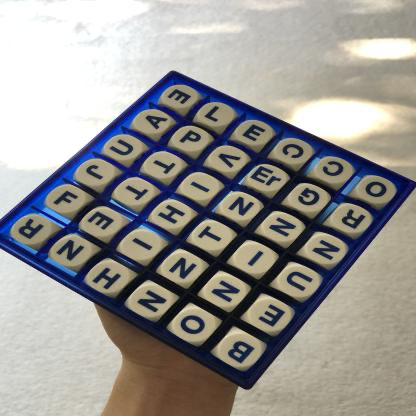a: (135, 111, 172, 135)
b: (220, 334, 263, 369)
c: (276, 140, 314, 166), (316, 159, 354, 184)
e: (248, 300, 292, 332), (84, 210, 124, 238), (236, 121, 274, 147), (164, 87, 198, 109)
er: (249, 166, 288, 192)
f: (48, 187, 87, 214)
g: (290, 186, 329, 213)
h: (89, 263, 130, 294), (153, 202, 193, 231)
i: (235, 245, 277, 274), (122, 232, 163, 261), (182, 175, 222, 201)
j: (78, 161, 114, 187)
l: (200, 104, 236, 128)
n: (131, 286, 173, 319), (205, 277, 247, 309), (306, 236, 347, 266), (52, 239, 94, 268), (163, 254, 205, 283), (264, 215, 304, 243), (222, 195, 261, 222)
o: (175, 310, 217, 343), (358, 178, 396, 205)
p: (174, 127, 210, 152)
r: (12, 216, 52, 246), (333, 206, 372, 234)
t: (193, 222, 233, 251), (145, 153, 183, 180), (118, 181, 155, 206)
u: (278, 267, 322, 299), (105, 137, 143, 162)
v: (210, 149, 247, 173)
